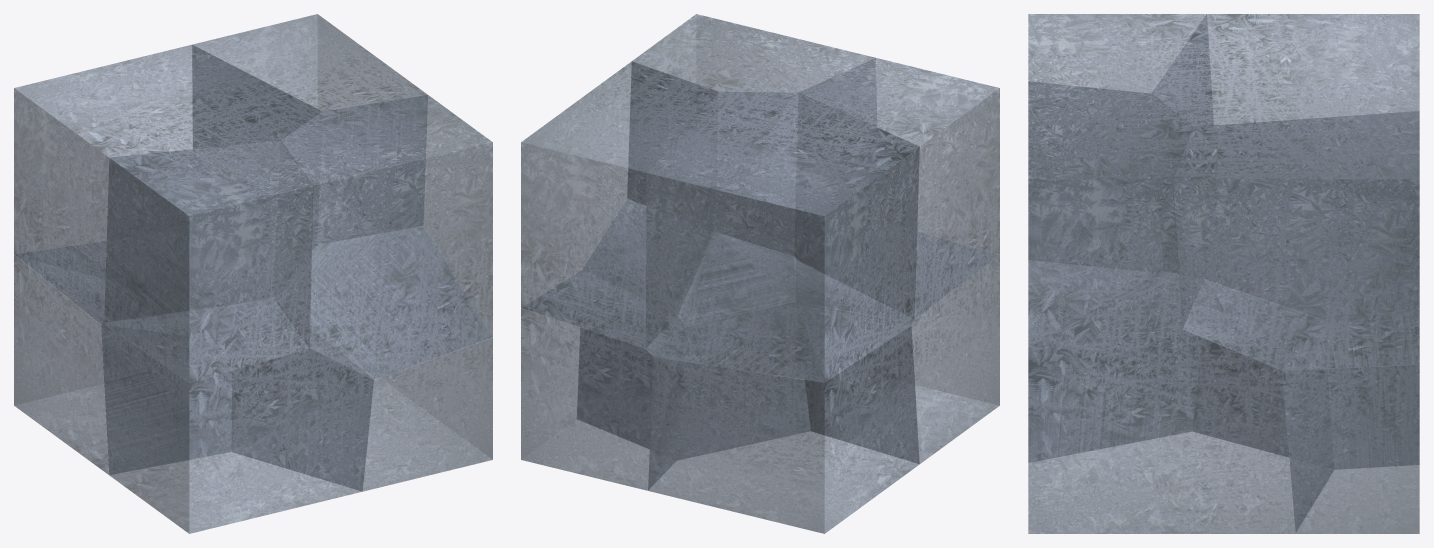
Rendered from icefrac_w.obj.
The picture shows the model from 3 angles, left to right: view 1: azimuth 30°, elevation 25°; view 2: azimuth 150°, elevation 25°; view 3: azimuth 270°, elevation 25°; orthographic projection. The views are drawn at different scales.
Parts seen in each view (by area): view 1: MemoryCubeW.003_cell.014_Mesh.059, MemoryCubeW.003_cell.000_Mesh.046, MemoryCubeW.003_cell.004_Mesh.035, MemoryCubeW.003_cell.015_Mesh.060, MemoryCubeW.003_cell.003_Mesh.049, MemoryCubeW.003_cell.005_Mesh.050, MemoryCubeW.003_cell.008_Mesh.053, MemoryCubeW.003_cell.009_Mesh.054, MemoryCubeW.003_cell.010_Mesh.055, MemoryCubeW.003_cell.007_Mesh.052, MemoryCubeW.003_cell.012_Mesh.057, MemoryCubeW.003_cell.011_Mesh.056 (+1 smaller); view 2: MemoryCubeW.003_cell.008_Mesh.053, MemoryCubeW.003_cell.009_Mesh.054, MemoryCubeW.003_cell.007_Mesh.052, MemoryCubeW.003_cell.006_Mesh.051, MemoryCubeW.003_cell.012_Mesh.057, MemoryCubeW.003_cell.013_Mesh.058, MemoryCubeW.003_cell.004_Mesh.035, MemoryCubeW.003_cell.000_Mesh.046, MemoryCubeW.003_cell.001_Mesh.047, MemoryCubeW.003_cell.002_Mesh.048, MemoryCubeW.003_cell.003_Mesh.049, MemoryCubeW.003_cell.014_Mesh.059 (+2 smaller); view 3: MemoryCubeW.003_cell.012_Mesh.057, MemoryCubeW.003_cell.013_Mesh.058, MemoryCubeW.003_cell.010_Mesh.055, MemoryCubeW.003_cell.015_Mesh.060, MemoryCubeW.003_cell.011_Mesh.056, MemoryCubeW.003_cell.014_Mesh.059, MemoryCubeW.003_cell.009_Mesh.054, MemoryCubeW.003_cell.008_Mesh.053, MemoryCubeW.003_cell.001_Mesh.047, MemoryCubeW.003_cell.002_Mesh.048, MemoryCubeW.003_cell.000_Mesh.046, MemoryCubeW.003_cell.004_Mesh.035 (+1 smaller).
Part boxes in pixels (<box>): MemoryCubeW.003_cell.014_Mesh.059: <box>281,95,492,379</box>; MemoryCubeW.003_cell.000_Mesh.046: <box>104,140,312,382</box>; MemoryCubeW.003_cell.004_Mesh.035: <box>104,141,312,382</box>; MemoryCubeW.003_cell.015_Mesh.060: <box>275,95,491,379</box>; MemoryCubeW.003_cell.003_Mesh.049: <box>101,323,373,533</box>; MemoryCubeW.003_cell.005_Mesh.050: <box>101,300,373,490</box>; MemoryCubeW.003_cell.008_Mesh.053: <box>14,44,321,323</box>; MemoryCubeW.003_cell.009_Mesh.054: <box>15,45,321,324</box>; MemoryCubeW.003_cell.010_Mesh.055: <box>363,338,492,491</box>; MemoryCubeW.003_cell.007_Mesh.052: <box>14,255,108,474</box>; MemoryCubeW.003_cell.012_Mesh.057: <box>192,14,427,111</box>; MemoryCubeW.003_cell.011_Mesh.056: <box>232,234,492,491</box>; MemoryCubeW.003_cell.008_Mesh.053: <box>645,91,919,382</box>; MemoryCubeW.003_cell.009_Mesh.054: <box>646,92,919,381</box>; MemoryCubeW.003_cell.007_Mesh.052: <box>648,326,919,533</box>; MemoryCubeW.003_cell.006_Mesh.051: <box>648,303,919,489</box>; MemoryCubeW.003_cell.012_Mesh.057: <box>521,61,717,347</box>; MemoryCubeW.003_cell.013_Mesh.058: <box>522,62,718,347</box>; MemoryCubeW.003_cell.004_Mesh.035: <box>795,58,998,318</box>; MemoryCubeW.003_cell.000_Mesh.046: <box>799,58,999,318</box>; MemoryCubeW.003_cell.001_Mesh.047: <box>521,308,653,490</box>; MemoryCubeW.003_cell.002_Mesh.048: <box>522,270,685,489</box>; MemoryCubeW.003_cell.003_Mesh.049: <box>911,255,999,463</box>; MemoryCubeW.003_cell.014_Mesh.059: <box>632,14,875,92</box>; MemoryCubeW.003_cell.012_Mesh.057: <box>1173,111,1419,370</box>; MemoryCubeW.003_cell.013_Mesh.058: <box>1173,111,1419,369</box>; MemoryCubeW.003_cell.010_Mesh.055: <box>1028,329,1295,533</box>; MemoryCubeW.003_cell.015_Mesh.060: <box>1028,82,1203,396</box>; MemoryCubeW.003_cell.011_Mesh.056: <box>1028,272,1333,533</box>; MemoryCubeW.003_cell.014_Mesh.059: <box>1028,81,1193,396</box>; MemoryCubeW.003_cell.009_Mesh.054: <box>1152,15,1418,317</box>; MemoryCubeW.003_cell.008_Mesh.053: <box>1152,14,1419,126</box>; MemoryCubeW.003_cell.001_Mesh.047: <box>1282,365,1419,533</box>; MemoryCubeW.003_cell.002_Mesh.048: <box>1282,309,1419,532</box>; MemoryCubeW.003_cell.000_Mesh.046: <box>1028,14,1206,93</box>; MemoryCubeW.003_cell.004_Mesh.035: <box>1029,15,1206,272</box>.
Bounding box in the file's own units: 2 × 2 × 2.
1 material, 1 textured.
